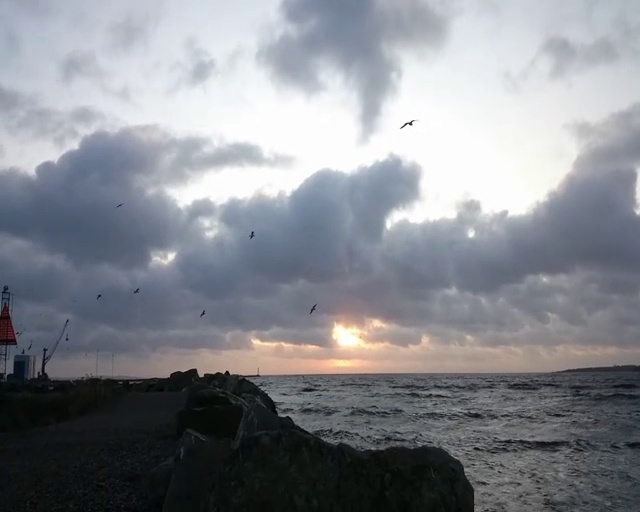BIRD: (400, 119, 418, 128)
